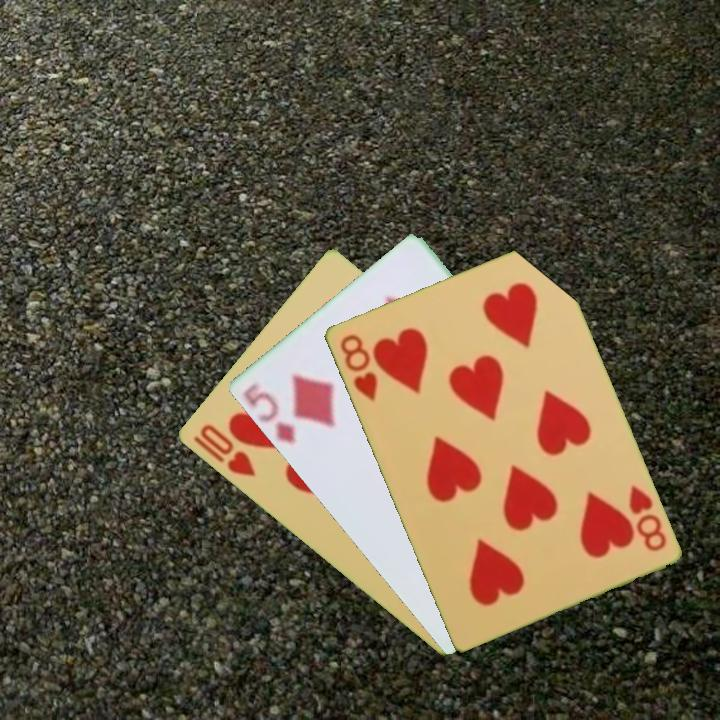10h: (189, 420, 258, 480)
5d: (239, 383, 299, 447)
8h: (624, 481, 669, 554), (336, 330, 380, 404)
